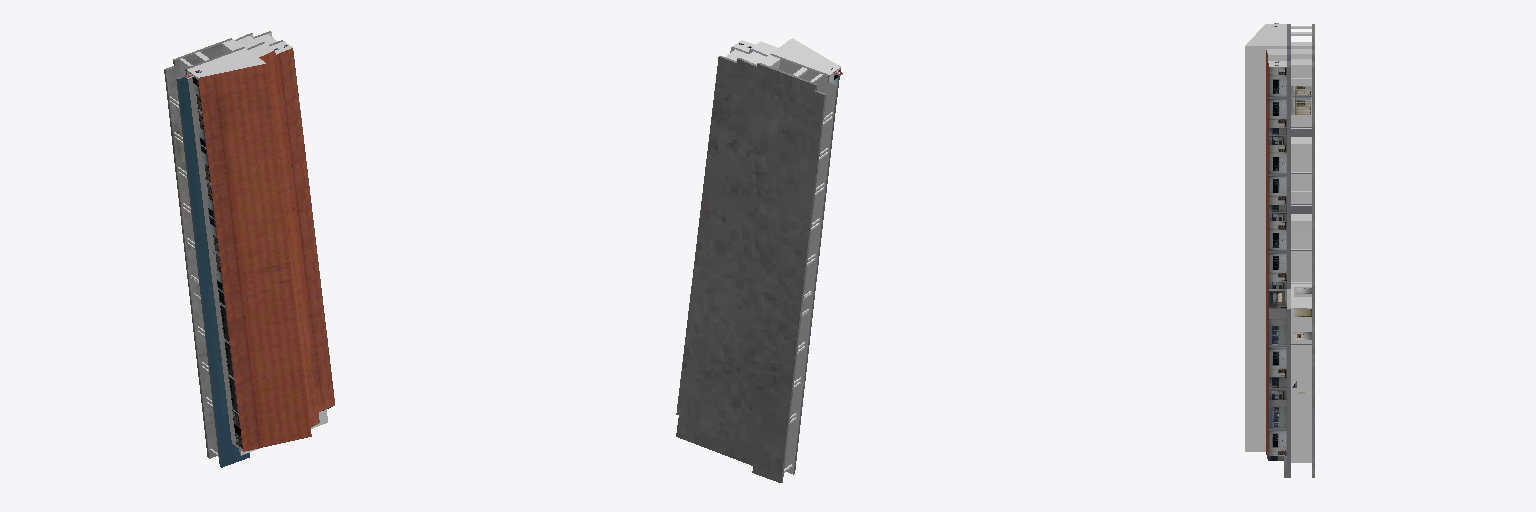
3 views of the same model, side by side, from view 1: azimuth 30°, elevation 25°; view 2: azimuth 150°, elevation 25°; view 3: azimuth 270°, elevation 25° (orthographic).
Visible parts, largest first — view 1: polygon.850; view 2: polygon.850; view 3: polygon.850.
Part boxes in pixels (bbox=[...]): polygon.850: bbox=[164, 31, 334, 467]; polygon.850: bbox=[676, 38, 842, 482]; polygon.850: bbox=[1245, 23, 1314, 477].
Bounding box in the file's own units: 25.47 × 67.77 × 10.43.
1 materials, 1 textured.